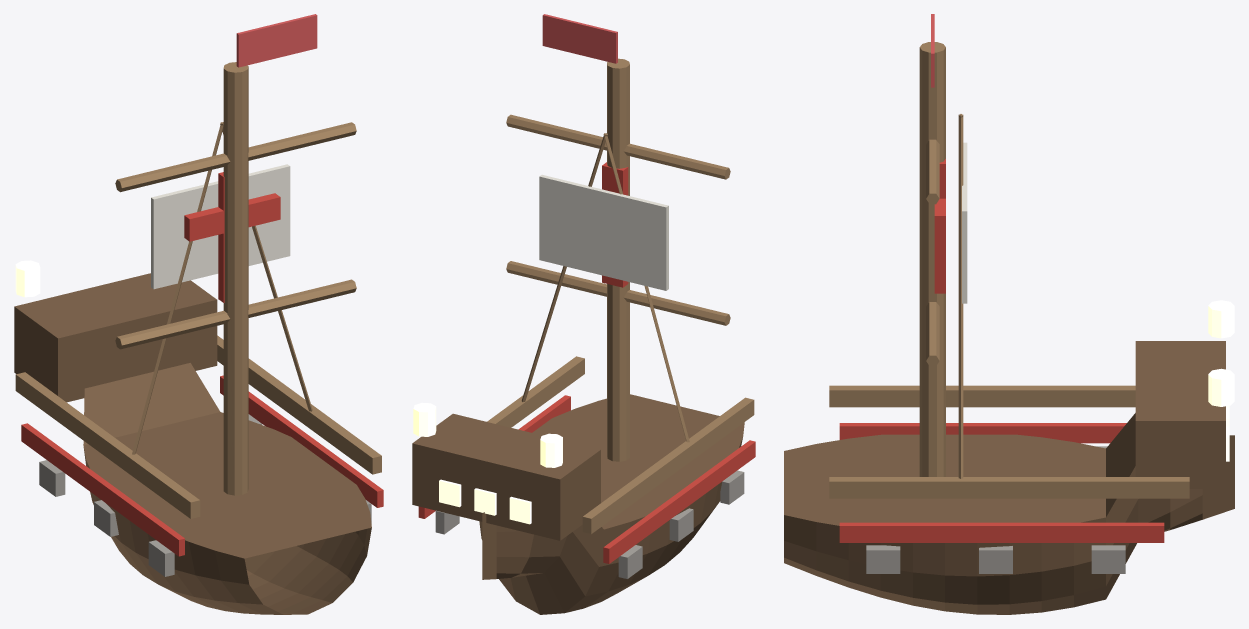
Rendered from ship_small.glb.
3 renders of one model, left to right at view 1: azimuth 30°, elevation 25°; view 2: azimuth 150°, elevation 25°; view 3: azimuth 270°, elevation 25°, orthographic. The views are drawn at different scales.
Parts seen in each view (by area): view 1: ship_small; view 2: ship_small; view 3: ship_small.
Part boxes in pixels (x1,y1,x2,y2): ship_small: (14, 14, 383, 614); ship_small: (412, 14, 755, 614); ship_small: (784, 14, 1234, 614).
Size of the model in its own units: 0.744 by 1.74 by 1.2.
